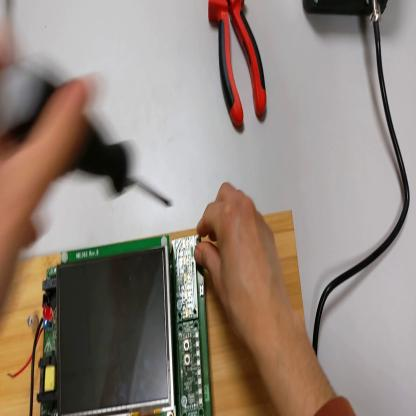hand: (2, 31, 98, 301), (194, 183, 293, 347)
low voltage board: (10, 231, 214, 416)
pliers: (208, 1, 267, 133)
screwdriver-: (5, 62, 172, 209)
welder station: (304, 1, 388, 22)
working area: (2, 207, 307, 416)
